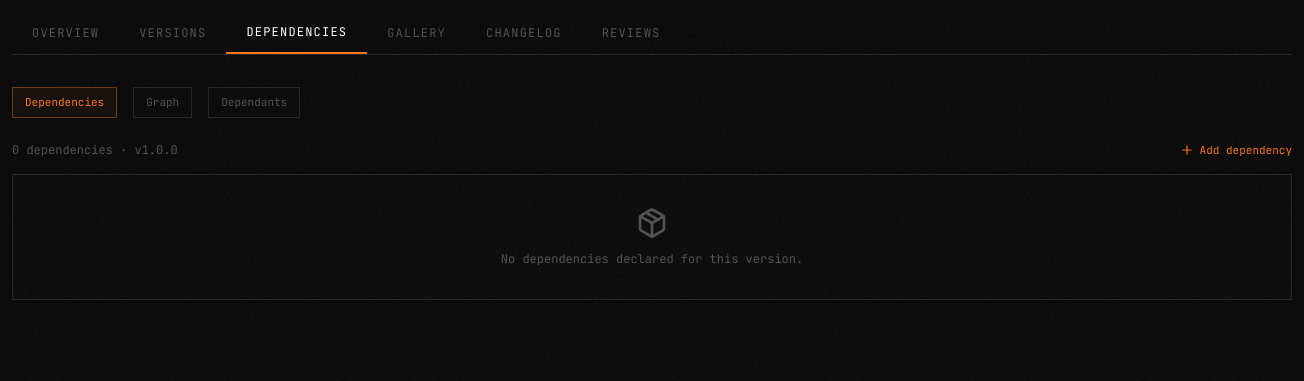
PluginContent › shows dependants loading skeleton
Click the button "Dependants".
click(254, 102)  # box [208,87,300,118]
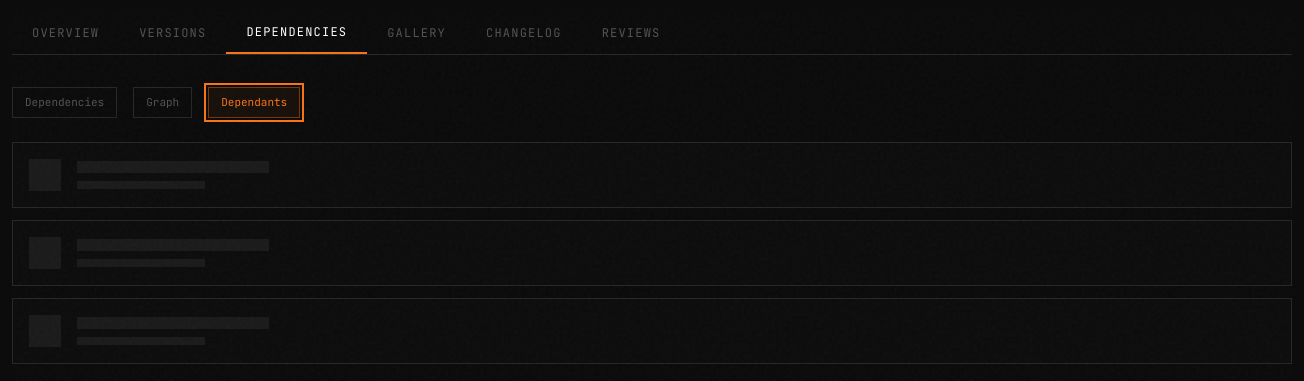
Expected: the element with class "animate-pulse" is shown, [12,142,1292,364]
